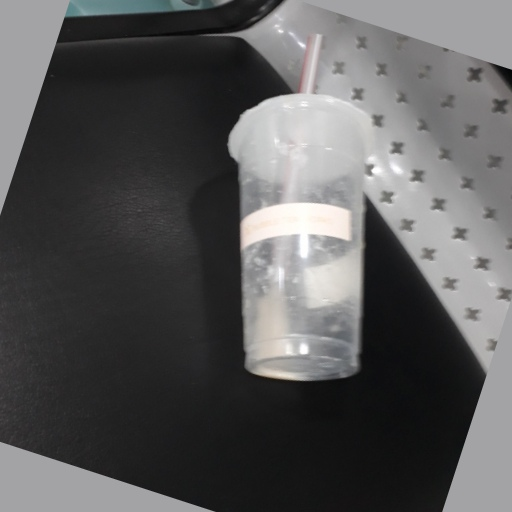Plastic_2: (224, 33, 384, 381)
